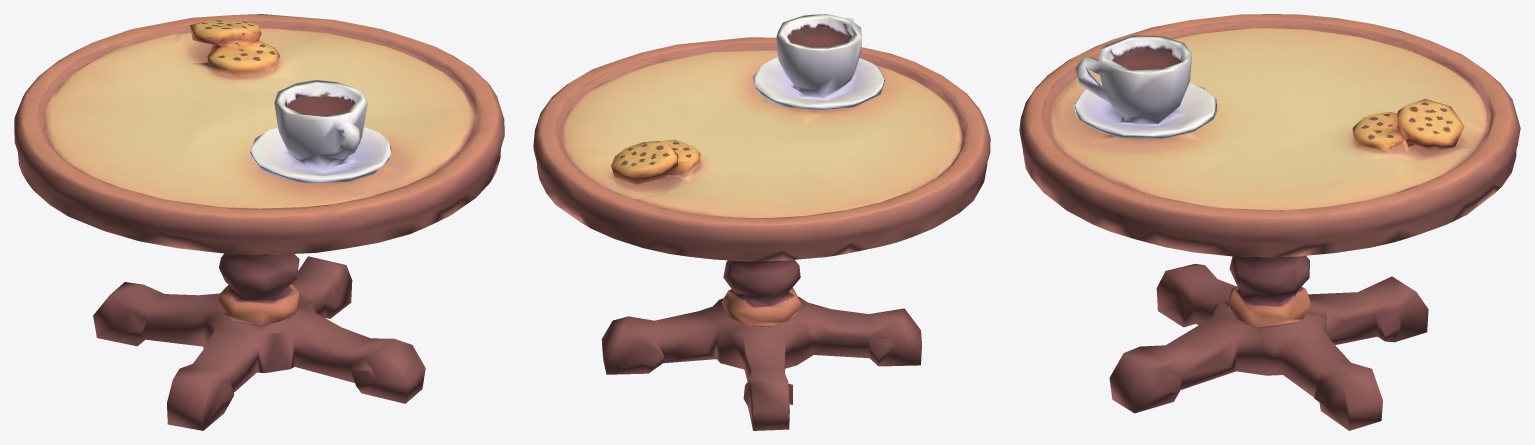
Rendered from table.glb.
3 renders of one model, left to right at view 1: azimuth 30°, elevation 25°; view 2: azimuth 150°, elevation 25°; view 3: azimuth 270°, elevation 25°, orthographic. The views are drawn at different scales.
Parts seen in each view (by area): view 1: tripo_node_7044ed52-cd1c-4384-98bf-3cfbc0ddd632; view 2: tripo_node_7044ed52-cd1c-4384-98bf-3cfbc0ddd632; view 3: tripo_node_7044ed52-cd1c-4384-98bf-3cfbc0ddd632.
Part boxes in pixels (left/top/right/bottom): tripo_node_7044ed52-cd1c-4384-98bf-3cfbc0ddd632: left=14, top=14, right=504, bottom=430; tripo_node_7044ed52-cd1c-4384-98bf-3cfbc0ddd632: left=533, top=14, right=990, bottom=430; tripo_node_7044ed52-cd1c-4384-98bf-3cfbc0ddd632: left=1019, top=14, right=1520, bottom=430.
Size of the model in its own units: 0.9791 by 0.6745 by 0.9815.
Materials: 1 (1 with a texture image).
